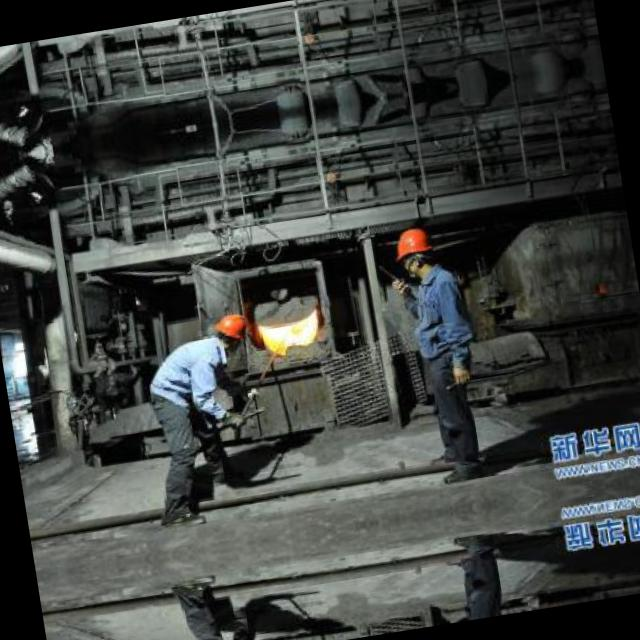helmet: (386, 221, 442, 286), (213, 308, 255, 346)
